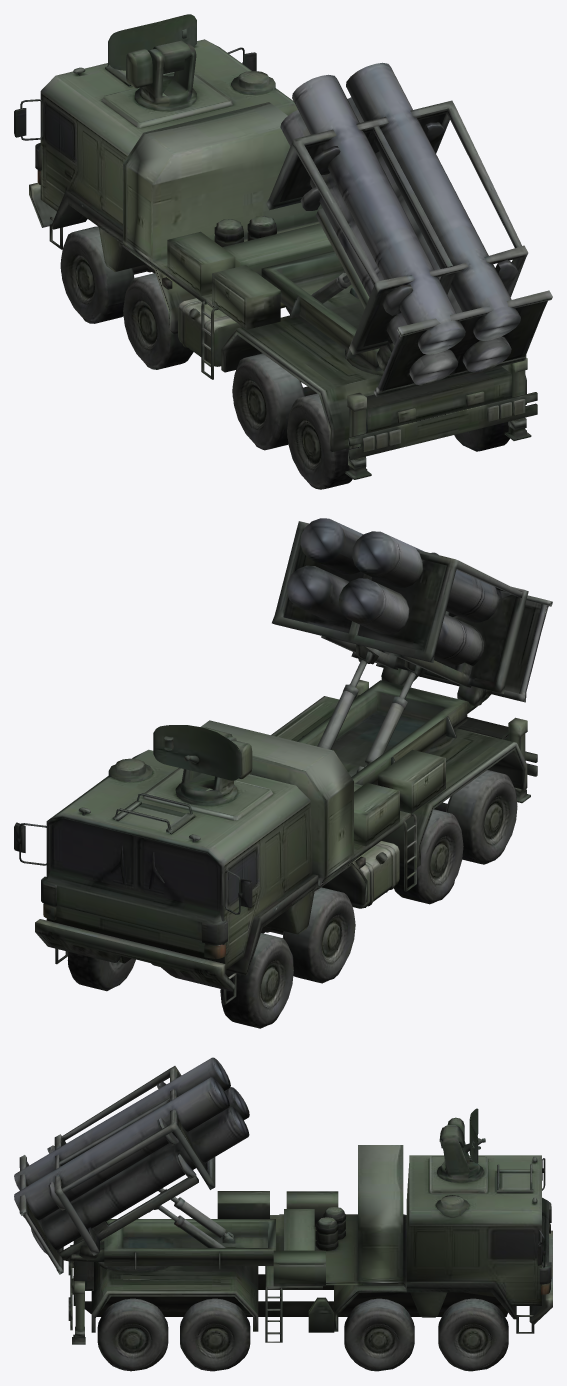
File: sam.glb
3 views of the same model, one above another, from view 1: azimuth 30°, elevation 25°; view 2: azimuth 150°, elevation 25°; view 3: azimuth 270°, elevation 25° (orthographic). The views are drawn at different scales.
Visible parts, largest first — view 1: tripo_node_b9bf433c; view 2: tripo_node_b9bf433c; view 3: tripo_node_b9bf433c.
Boxes of the visible parts, <box> form: tripo_node_b9bf433c: <box>14,14,552,489</box>; tripo_node_b9bf433c: <box>14,518,552,1028</box>; tripo_node_b9bf433c: <box>14,1057,552,1371</box>.
Bounding box in the file's own units: 0.3872 × 0.5483 × 0.9995.
1 material, 1 textured.
